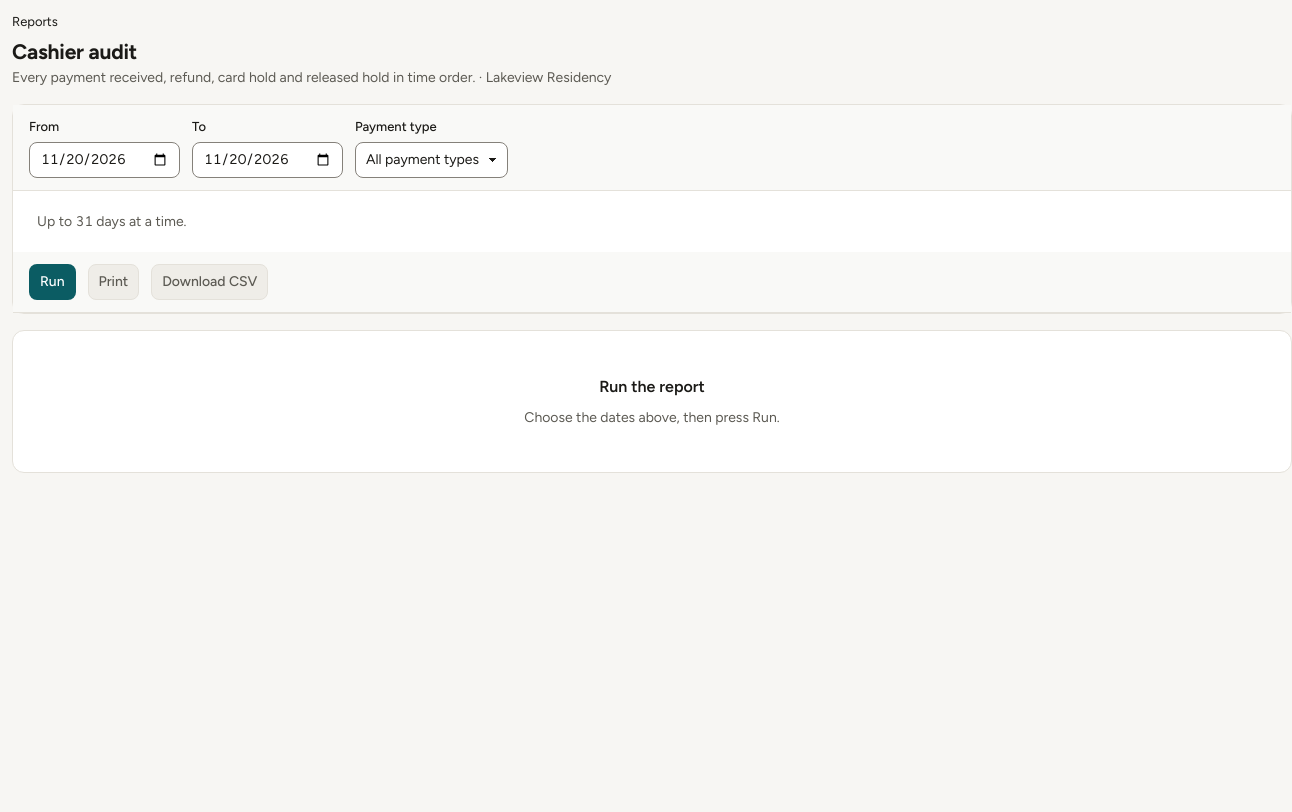
Test: ReportRunnerScreen: Part B cashier and financial › a viewer who cannot read staff gets no cashier filter and a word for every staff member
Expected: the date field labelled "From" holds "2026-11-20", 29,142 -> 180,178
Click the button with test id "report-run": [52, 282] box 29,264 -> 76,300
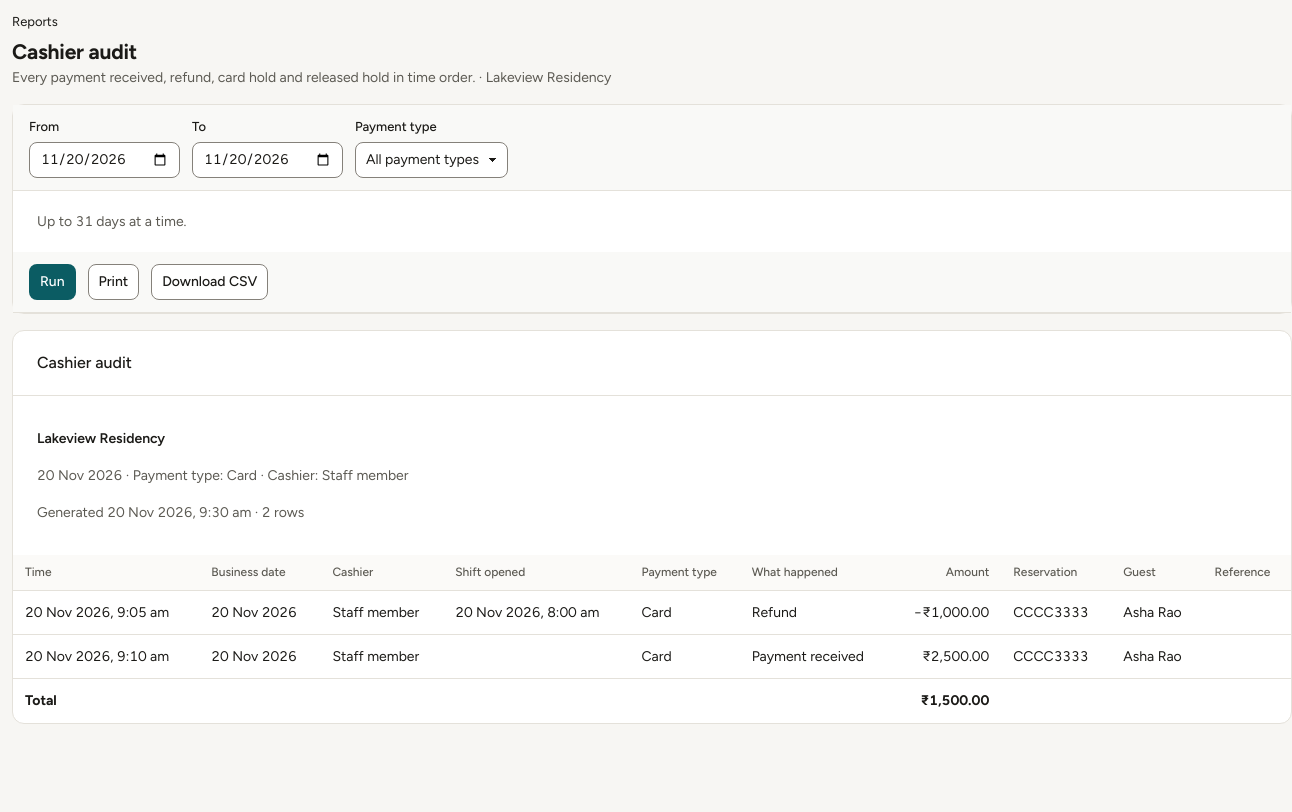
Result: the element with test id "report-card" is shown at 13,331 -> 1291,723
Result: the text "Staff member" is shown 2 times at 332,604 -> 419,621; 332,648 -> 419,665
